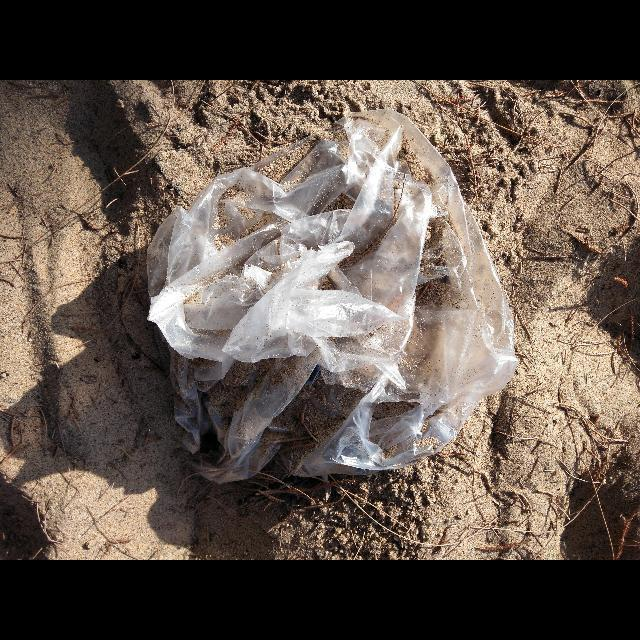Plastic: (146, 108, 518, 484)
